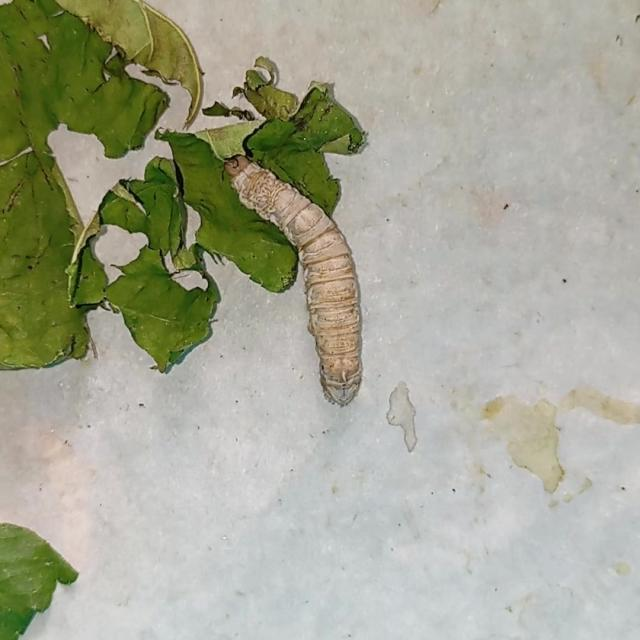Grasserie: (218, 140, 389, 413)
